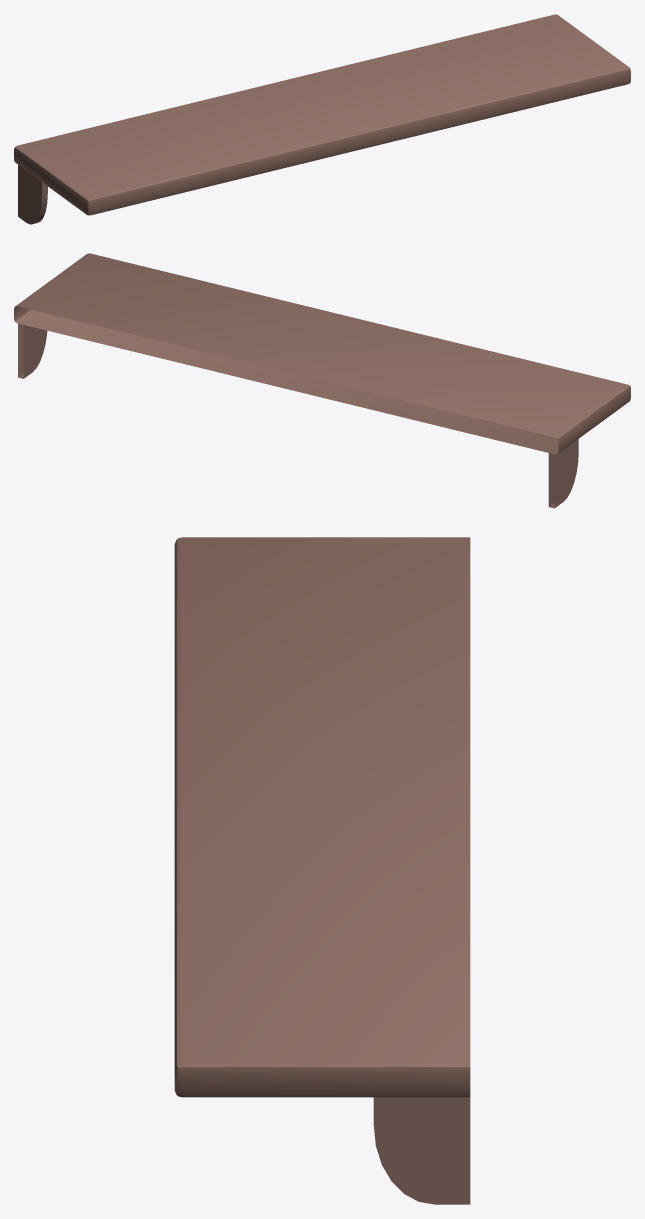
The model's file is WallShelf.fbx.
3 renders of one model, top to bottom at view 1: azimuth 30°, elevation 25°; view 2: azimuth 150°, elevation 25°; view 3: azimuth 270°, elevation 25°, orthographic. The views are drawn at different scales.
Parts seen in each view (by area): view 1: Wall Shelf; view 2: Wall Shelf; view 3: Wall Shelf.
Boxes of the visible parts, x1,y1,x2,y2 form: Wall Shelf: (14, 14, 630, 224); Wall Shelf: (14, 253, 630, 508); Wall Shelf: (174, 537, 470, 1204).
Bounding box in the file's own units: 82.6 × 10.31 × 19.43.
Materials: 1 (1 with a texture image).
